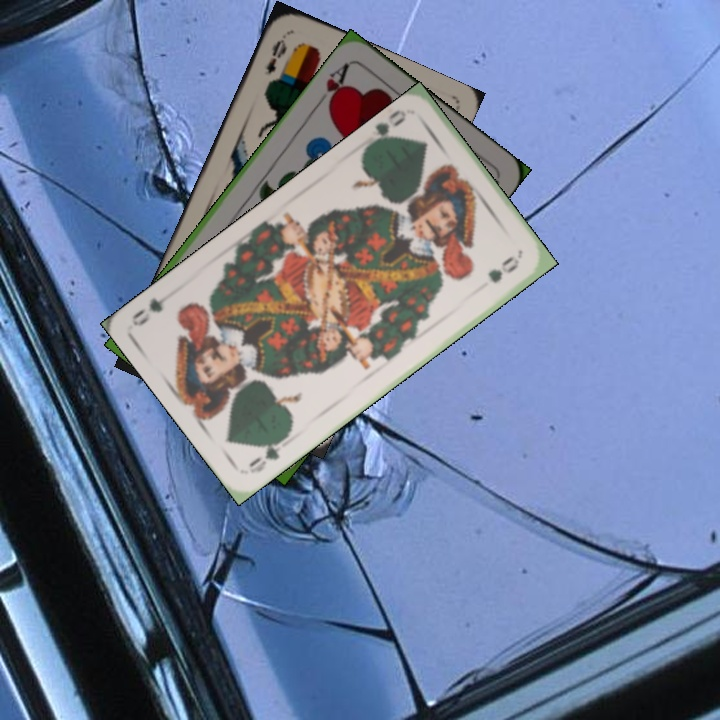EO: (262, 31, 290, 89)
GO: (244, 429, 291, 476), (363, 105, 409, 150)
HA: (311, 58, 352, 111)
